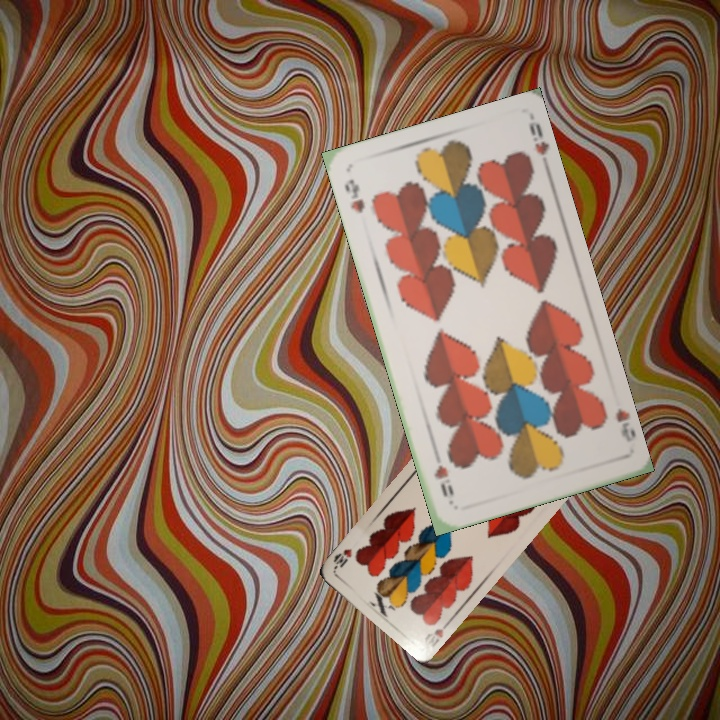H10: (420, 616, 453, 647)
H9: (340, 174, 368, 215), (611, 404, 636, 445)
